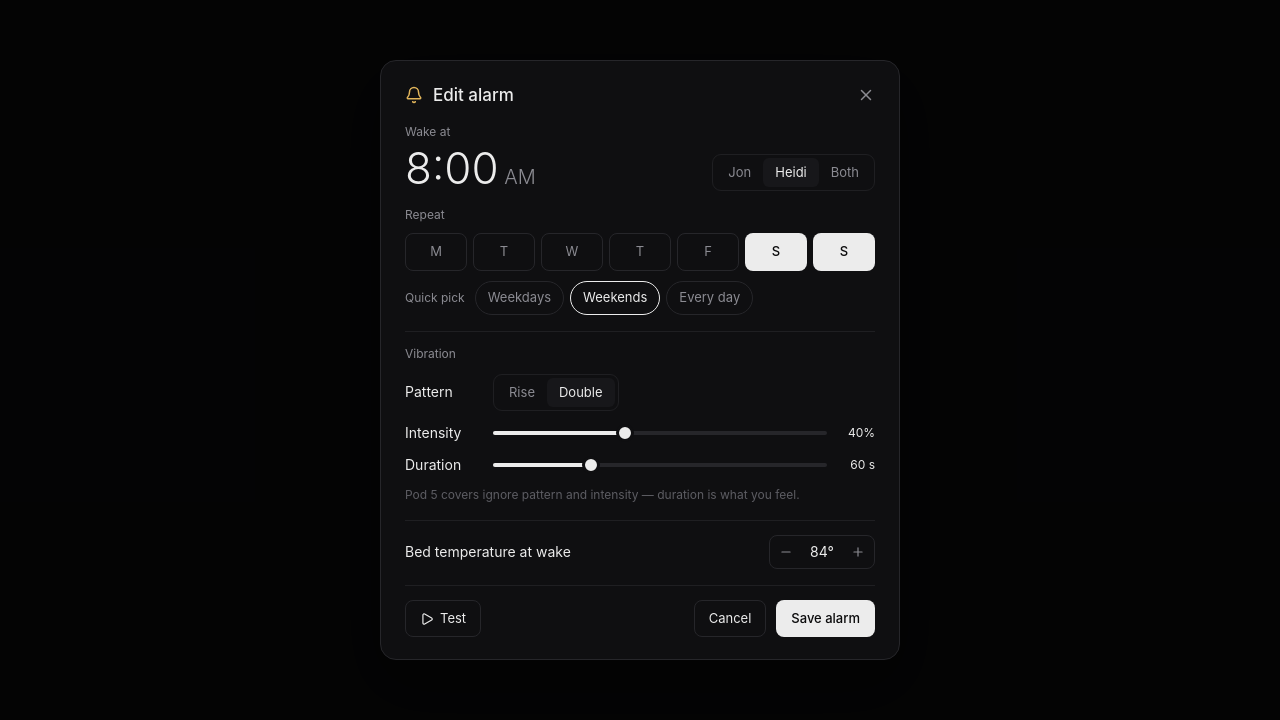
Test case: AlarmEditor › surfaces save failures and stays open
Click the button "Save alarm" at (826, 619), box [776, 600, 875, 637]
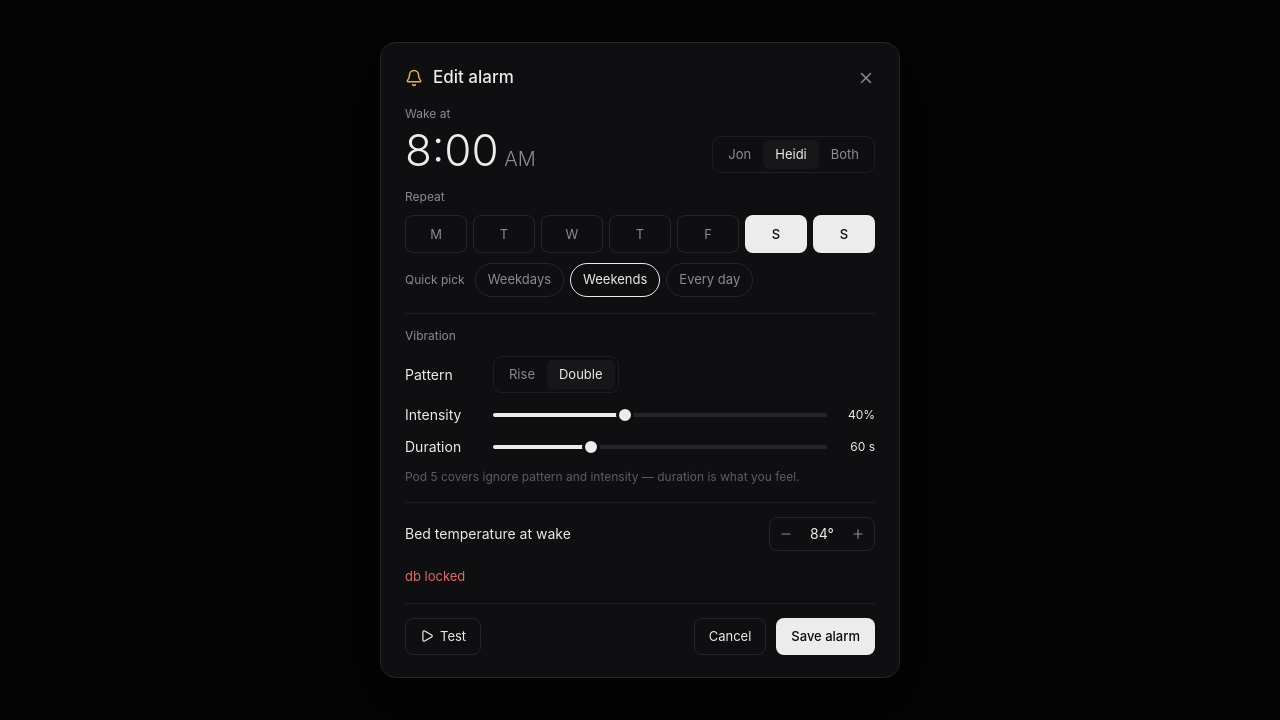
Expected: the text "db locked" is shown, [405, 568, 465, 584]
